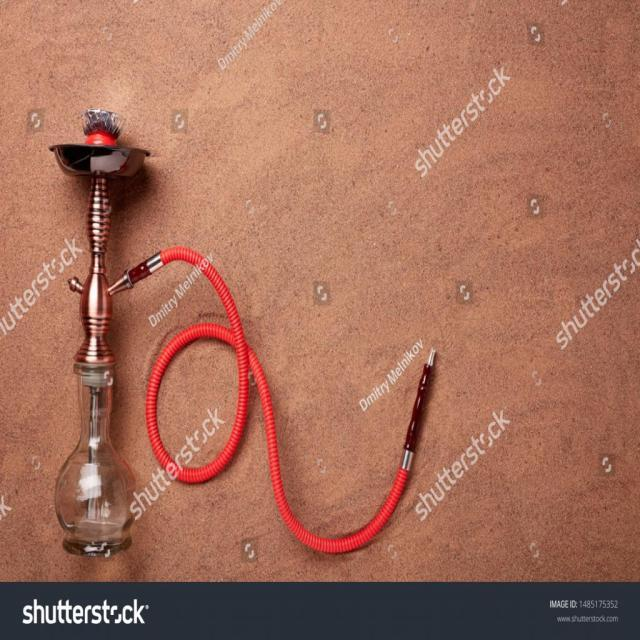smoking: (49, 104, 438, 557)
